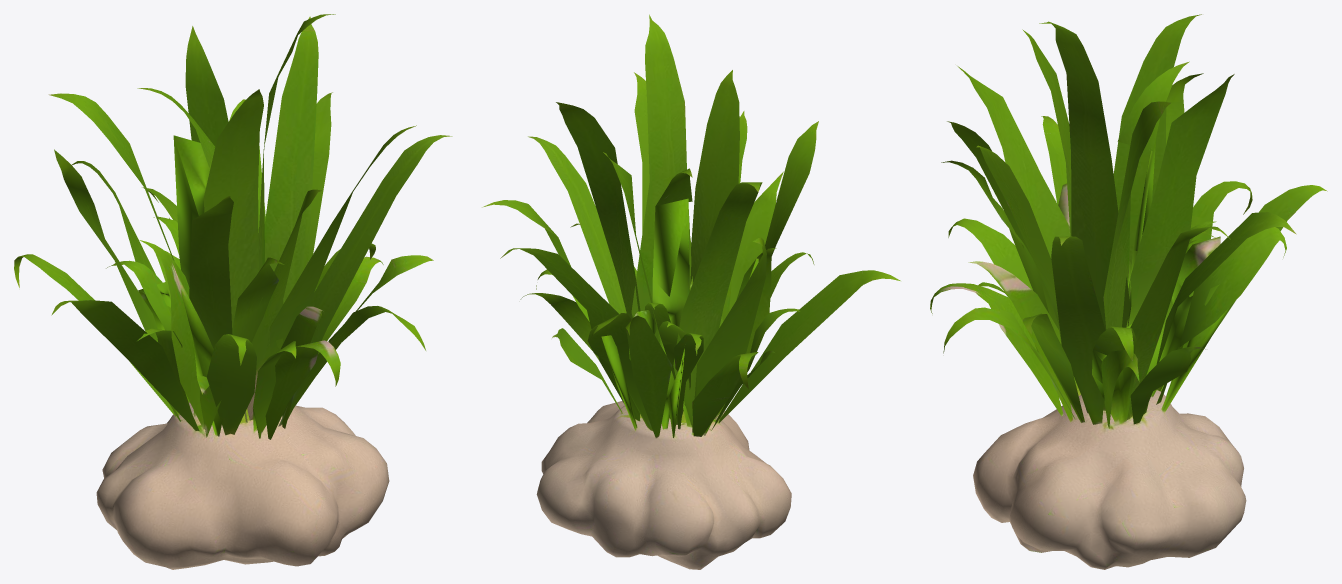
The model's file is sea-fern.glb.
3 views of the same model, side by side, from view 1: azimuth 30°, elevation 25°; view 2: azimuth 150°, elevation 25°; view 3: azimuth 270°, elevation 25° (orthographic). The views are drawn at different scales.
Bounding box in the file's own units: 0.7451 × 0.9531 × 0.624.
Materials: 1 (1 with a texture image).
